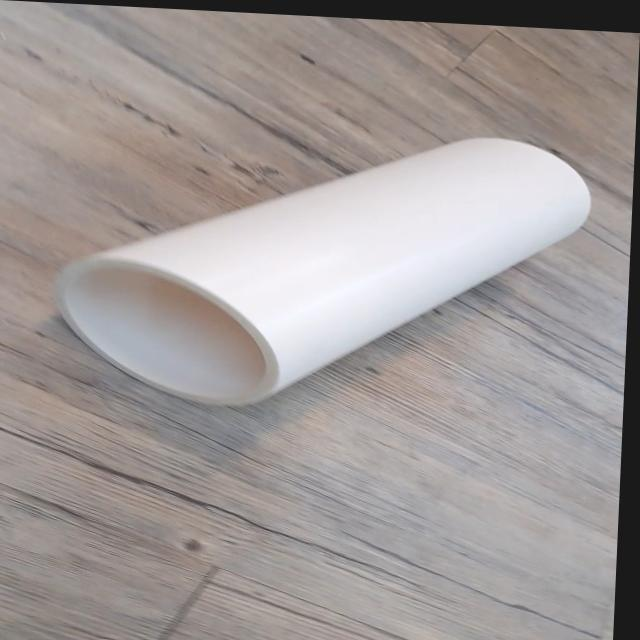CORAL: (57, 112, 601, 431)
